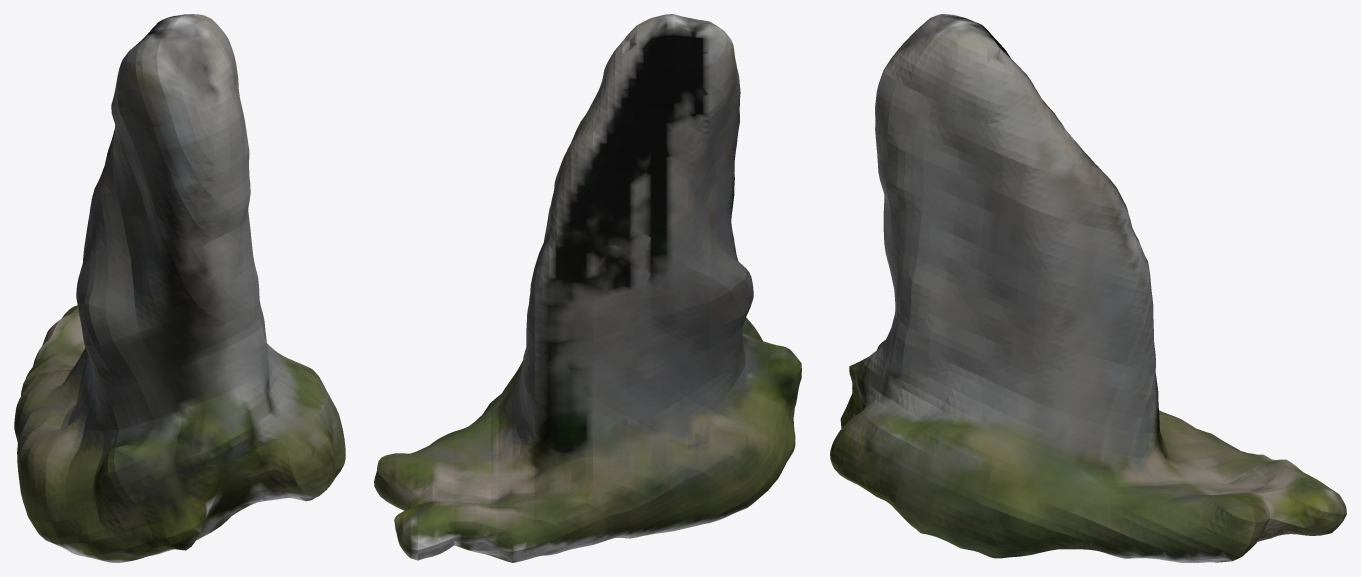
Rendered from stoneours.glb.
The picture shows the model from 3 angles, left to right: view 1: azimuth 30°, elevation 25°; view 2: azimuth 150°, elevation 25°; view 3: azimuth 270°, elevation 25°; orthographic projection. The views are drawn at different scales.
Visible parts, largest first — view 1: stonemesh; view 2: stonemesh; view 3: stonemesh.
Boxes of the visible parts, left/top/right/bottom form: stonemesh: left=14, top=14, right=345, bottom=562; stonemesh: left=374, top=14, right=801, bottom=562; stonemesh: left=830, top=14, right=1346, bottom=562.
Size of the model in its own units: 0.4799 by 0.7682 by 0.7316.
